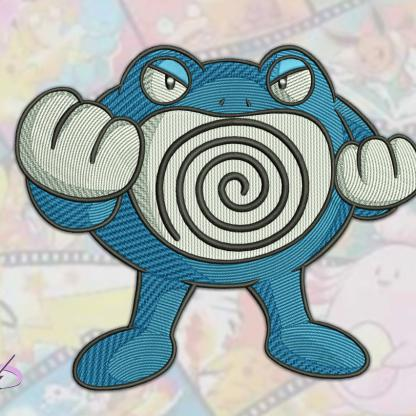Poliwrath: (18, 32, 416, 395)
